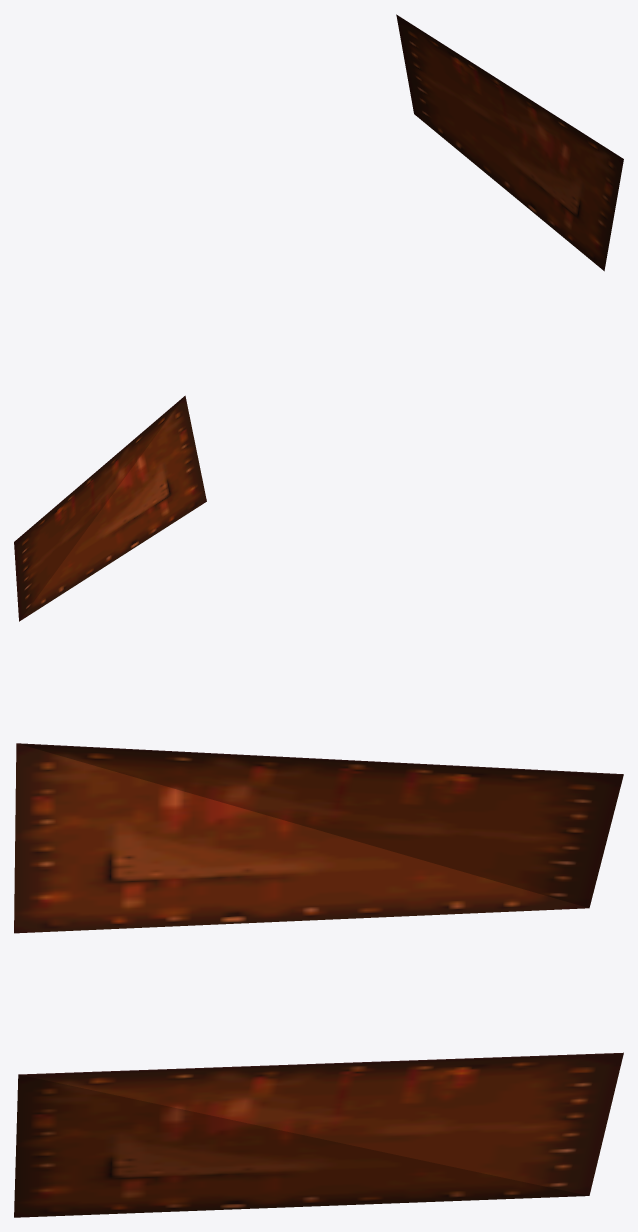
File: Schiff_Mitte2_1254.glb
3 renders of one model, top to bottom at view 1: azimuth 30°, elevation 25°; view 2: azimuth 150°, elevation 25°; view 3: azimuth 270°, elevation 25°, orthographic. The views are drawn at different scales.
Visible parts, largest first — view 1: pPlaneShape36; view 2: pPlaneShape36; view 3: pPlaneShape15, pPlaneShape36.
Boxes of the visible parts, x1,y1,x2,y2 form: pPlaneShape36: (396,14,623,271); pPlaneShape36: (14,395,206,621); pPlaneShape15: (14,743,623,933); pPlaneShape36: (14,1052,623,1217).
Bounding box in the file's own units: 2.37 × 0.5411 × 1.85.
Materials: 2 (2 with a texture image).
